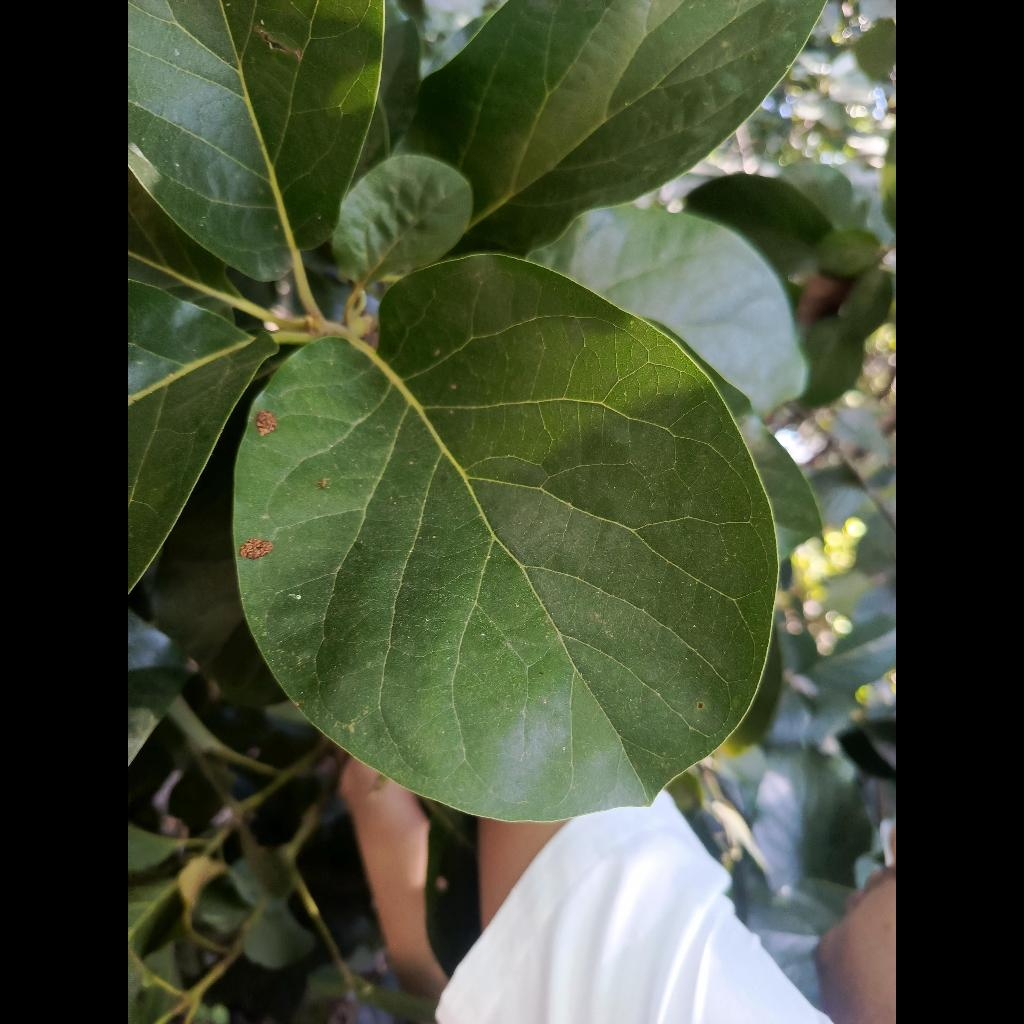Healthy: (234, 256, 777, 820)
